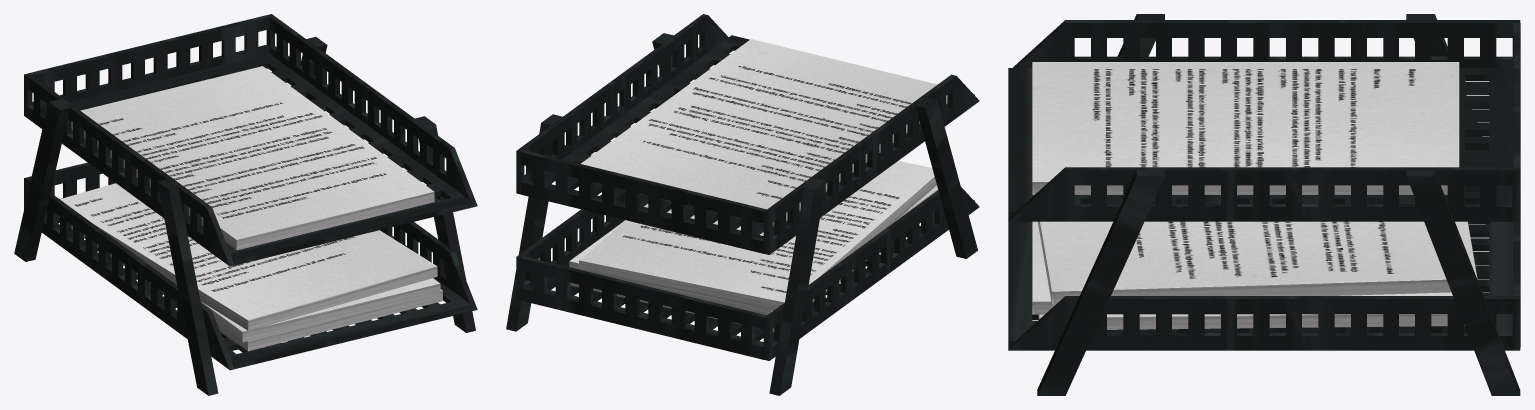
File: double_letter_box.glb
3 renders of one model, left to right at view 1: azimuth 30°, elevation 25°; view 2: azimuth 150°, elevation 25°; view 3: azimuth 270°, elevation 25°, orthographic. The views are drawn at different scales.
Parts seen in each view (by area): view 1: Cubo.012, Cubo.007; view 2: Cubo.007, Cubo.012; view 3: Cubo.007, Cubo.012.
Part boxes in pixels (x1,y1,x2,y2): Cubo.012: [60, 66, 442, 351]; Cubo.007: [14, 14, 477, 395]; Cubo.007: [506, 14, 979, 395]; Cubo.012: [569, 39, 947, 332]; Cubo.007: [1008, 14, 1520, 395]; Cubo.012: [1032, 62, 1477, 329].
Size of the model in its own units: 0.2162 by 0.1366 by 0.2885.
Materials: 2 (2 with a texture image).
